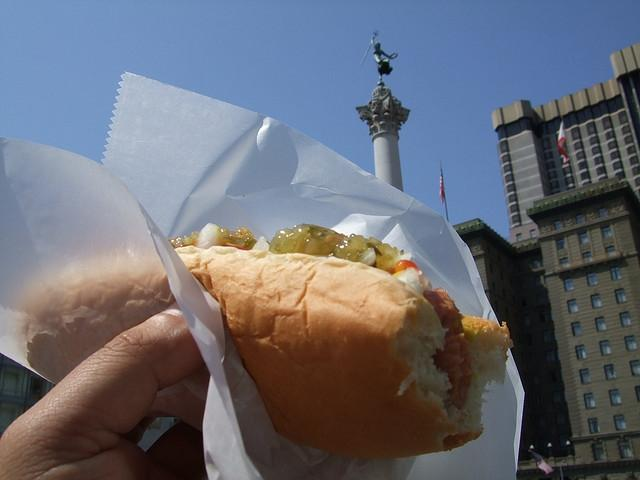onion: (192, 223, 224, 250), (398, 267, 424, 293), (358, 247, 377, 266), (252, 236, 270, 250)
